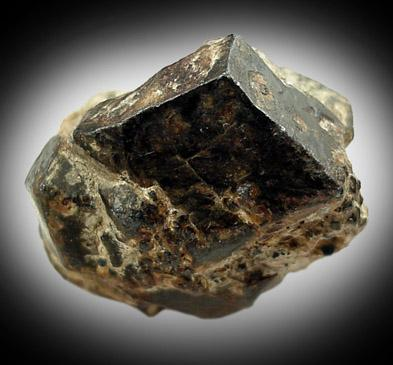magnetite: (39, 78, 342, 272)
